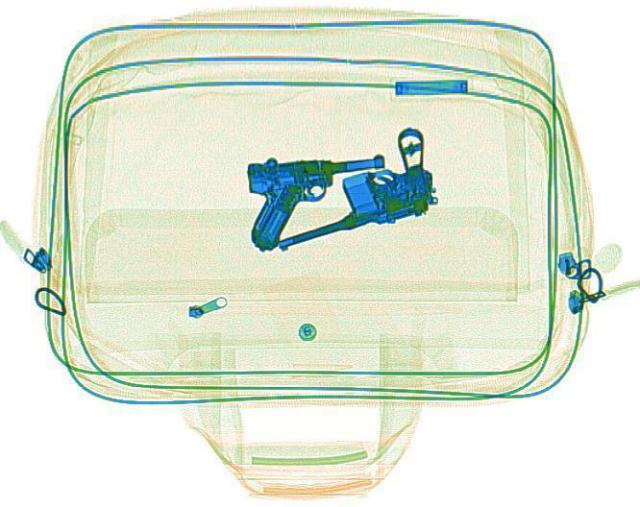Gun: (240, 123, 460, 251), (241, 149, 393, 246)
